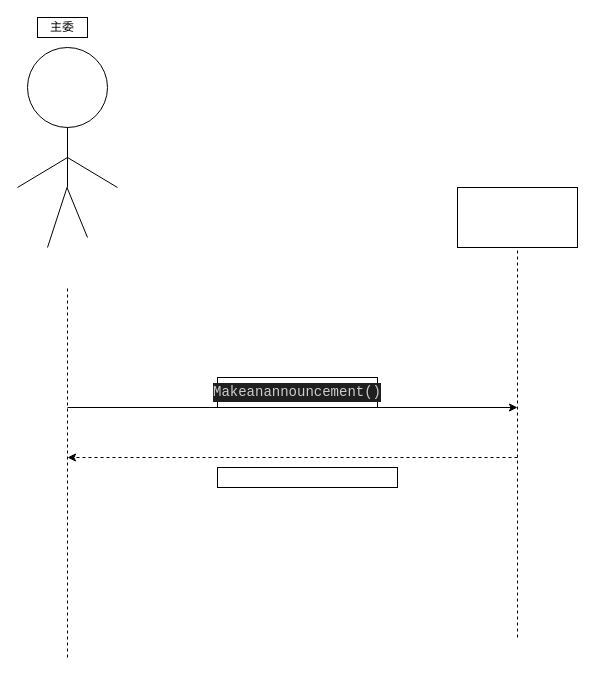
The diagram is 595 pixels wide and 676 high, and some of its shapes have lost their labels. The shapes that lost their labels are listed below. From the top down, each one's box as (x1, y1, x2, y2) in pixels, then its label:
(456, 186, 578, 248): APP
(216, 466, 398, 488): publish an announcement
